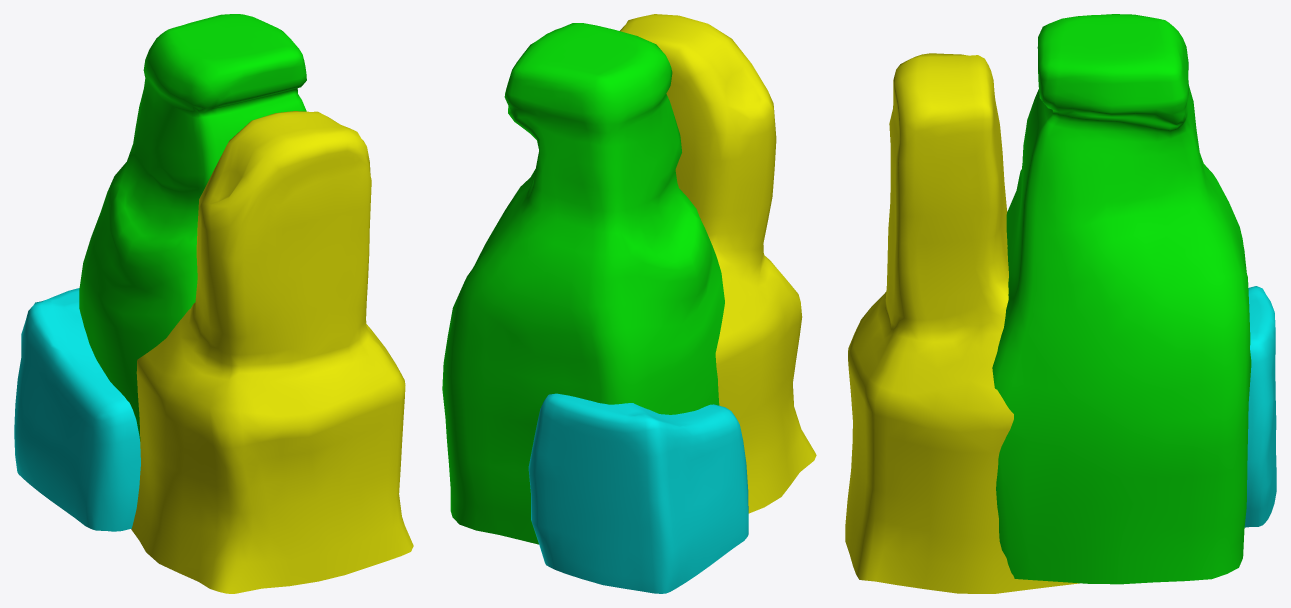
File: rock6.fbx
3 views of the same model, side by side, from view 1: azimuth 30°, elevation 25°; view 2: azimuth 150°, elevation 25°; view 3: azimuth 270°, elevation 25° (orthographic). The views are drawn at different scales.
Parts seen in each view (by area): view 1: rock6:rocher6; view 2: rock6:rocher6; view 3: rock6:rocher6.
Boxes of the visible parts, x1,y1,x2,y2 form: rock6:rocher6: (14,14,413,593); rock6:rocher6: (442,14,816,593); rock6:rocher6: (845,14,1276,593).
Size of the model in its own units: 1470 by 2483 by 1929.
